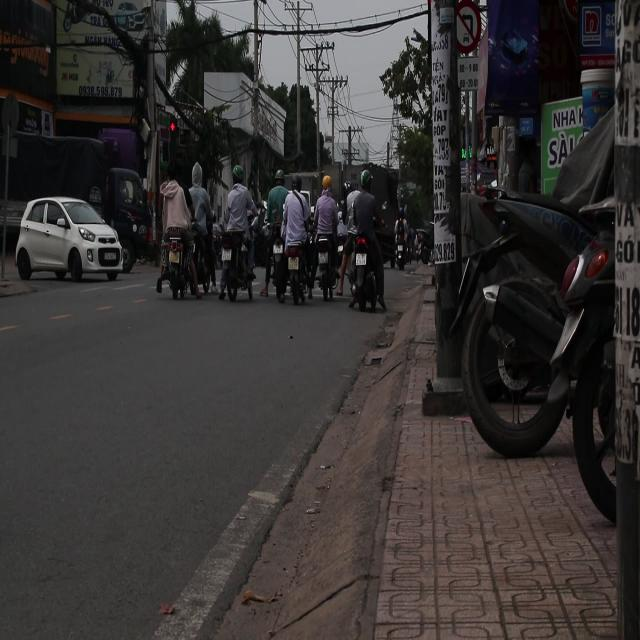car: (16, 198, 124, 282)
motorbike: (144, 200, 204, 311), (208, 214, 267, 306), (343, 220, 394, 318), (258, 212, 296, 325), (183, 212, 223, 308), (308, 212, 340, 305), (279, 216, 309, 304)
truck: (0, 138, 154, 278)
